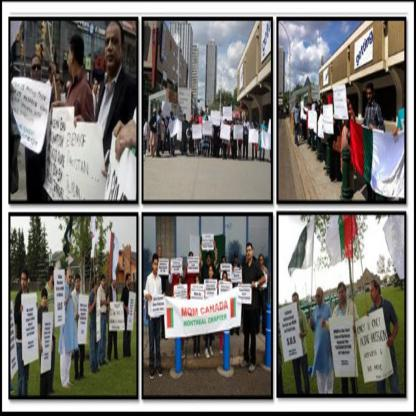face: (106, 23, 123, 68), (33, 60, 42, 80), (68, 46, 74, 72), (371, 284, 379, 300), (339, 288, 346, 304), (317, 290, 323, 304), (22, 274, 27, 290), (247, 247, 253, 260), (67, 270, 72, 285), (293, 296, 299, 308), (368, 89, 373, 103), (154, 260, 159, 273), (76, 278, 81, 290), (179, 280, 184, 291), (190, 254, 195, 264), (51, 271, 55, 283), (196, 277, 200, 289), (43, 295, 47, 305), (210, 267, 214, 277), (98, 84, 101, 96), (260, 257, 264, 266), (95, 80, 98, 91), (159, 246, 162, 257), (103, 278, 106, 288), (129, 276, 132, 286), (224, 274, 227, 284), (114, 279, 117, 287), (208, 257, 211, 265), (223, 259, 226, 267), (96, 281, 98, 290), (236, 256, 239, 262), (155, 111, 157, 116), (296, 102, 298, 107), (160, 111, 162, 115)
